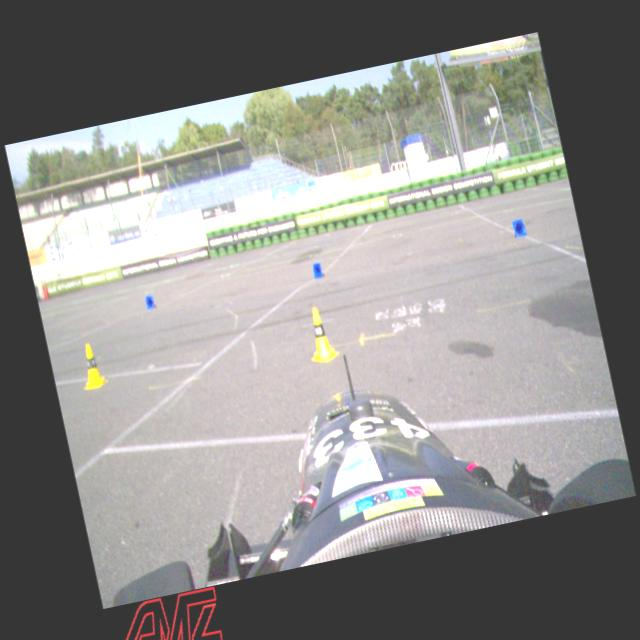blue_cone: (511, 217, 527, 238), (311, 261, 325, 278), (144, 293, 156, 310)
yellow_cone: (301, 303, 340, 364), (75, 340, 109, 390)
